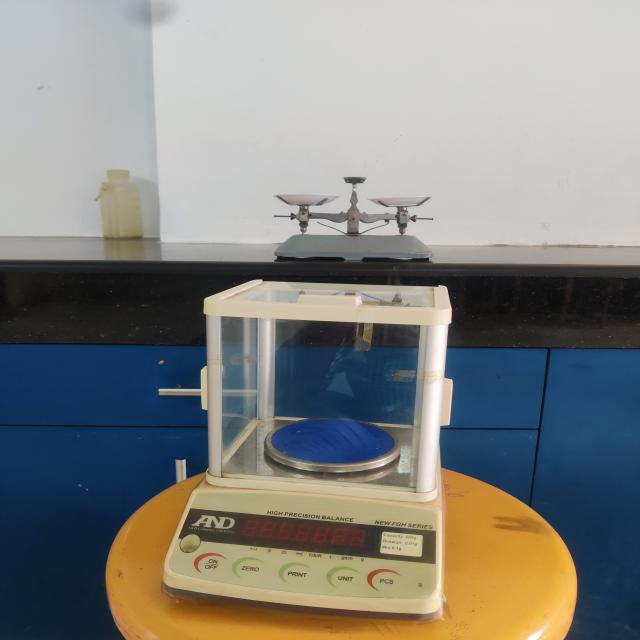Mechanical_Balance_Scale: (262, 162, 442, 264)
Precision_Weight_Scale: (140, 270, 483, 627)
